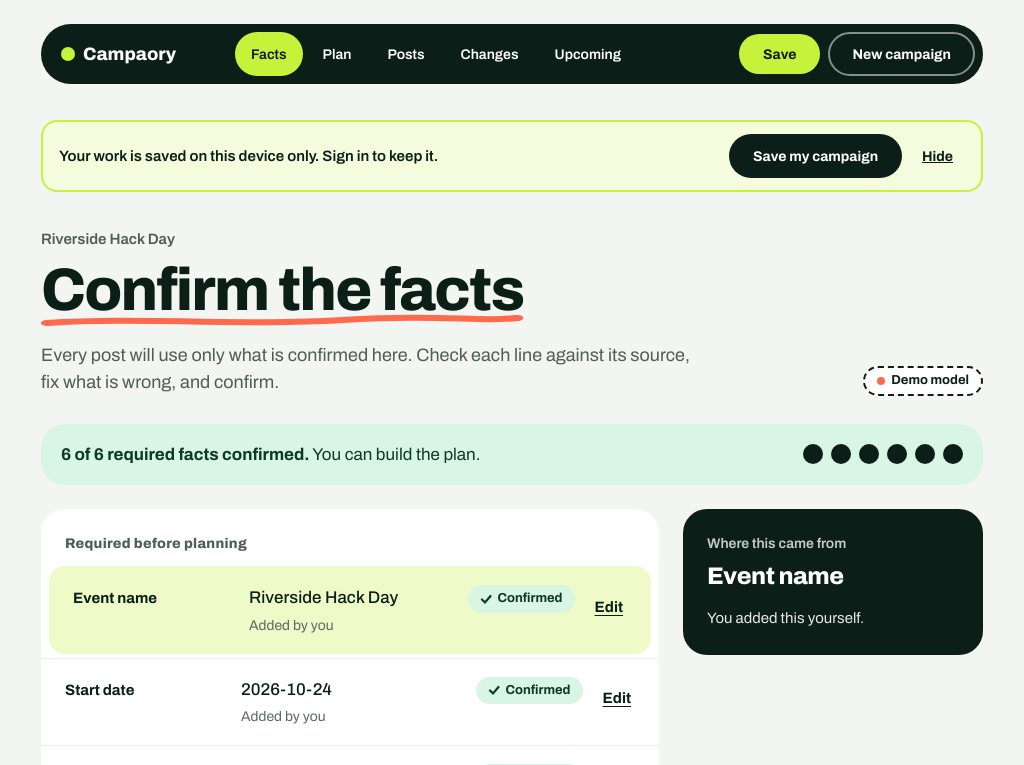
Test case: sign-in and save (LLD 8.4) › Save opens the sign-in sheet for guests
The image size is (1024, 765).
Click the button "Save my campaign" at (816,156), box [729,134,902,178]
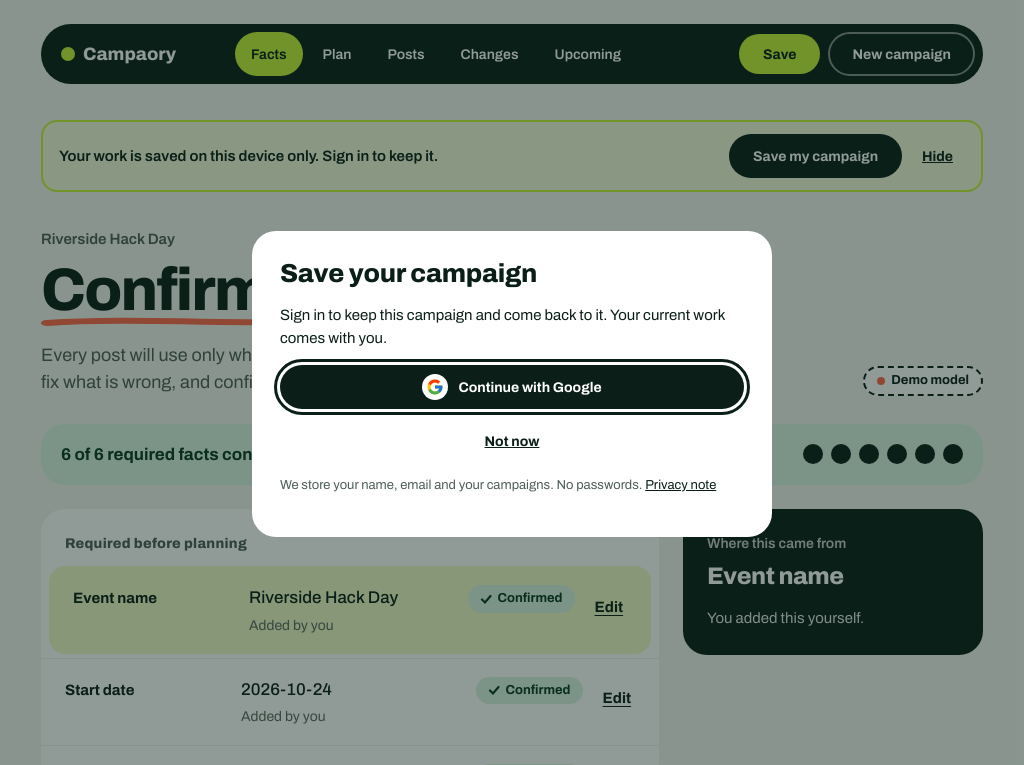
Now the dialog "Save your campaign" is shown, box [252,231,772,537]
